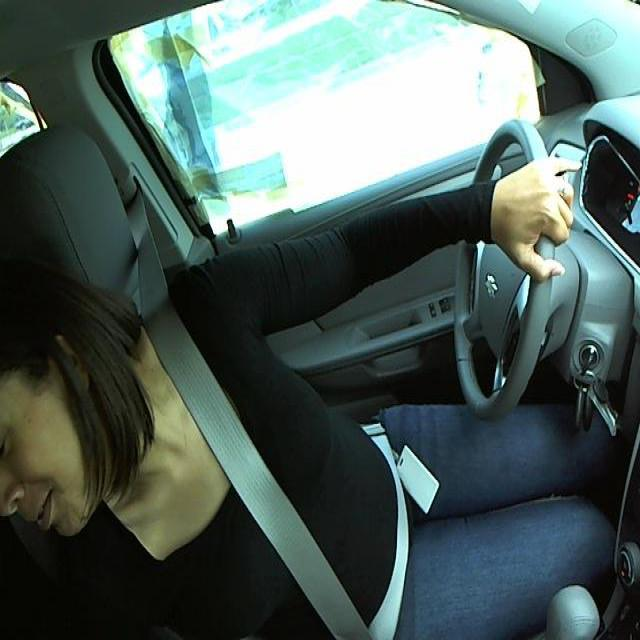seatbelt: (143, 329, 424, 635)
